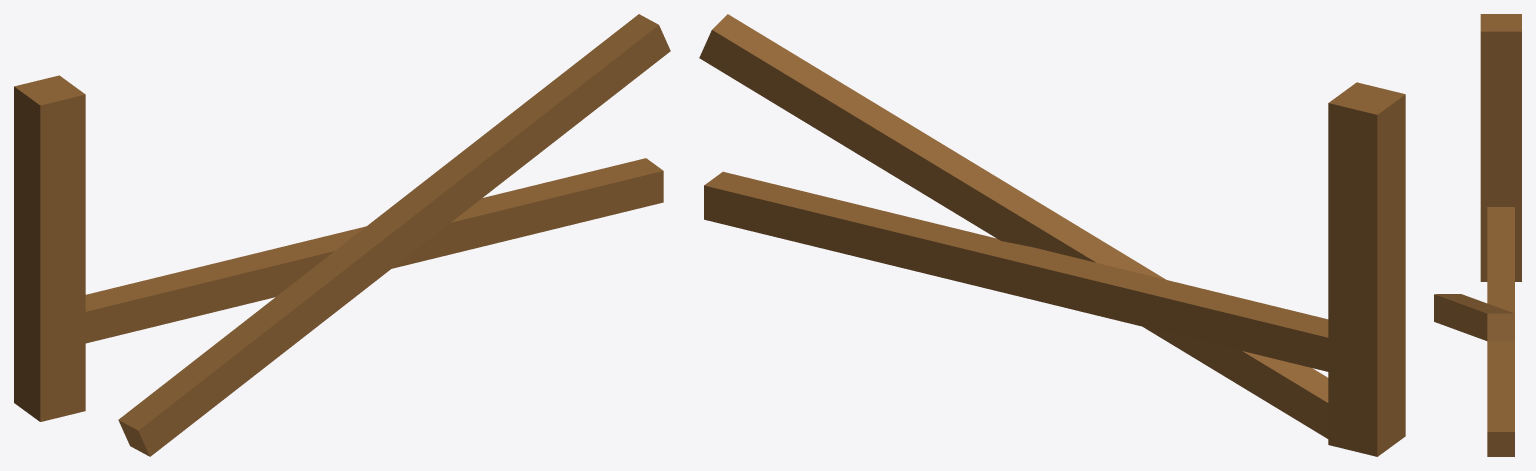
Rendered from VallaE.fbx.
3 views of the same model, side by side, from view 1: azimuth 30°, elevation 25°; view 2: azimuth 150°, elevation 25°; view 3: azimuth 270°, elevation 25° (orthographic). The views are drawn at different scales.
Parts seen in each view (by area): view 1: VallaE; view 2: VallaE; view 3: VallaE.
Part boxes in pixels (x1=…): VallaE: x1=14, y1=14, x2=670, y2=456; VallaE: x1=699, y1=14, x2=1405, y2=456; VallaE: x1=1434, y1=14, x2=1521, y2=456.
Bounding box in the file's own units: 157 × 83.09 × 23.86.
